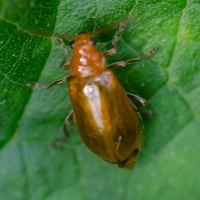insect: (26, 23, 155, 168)
